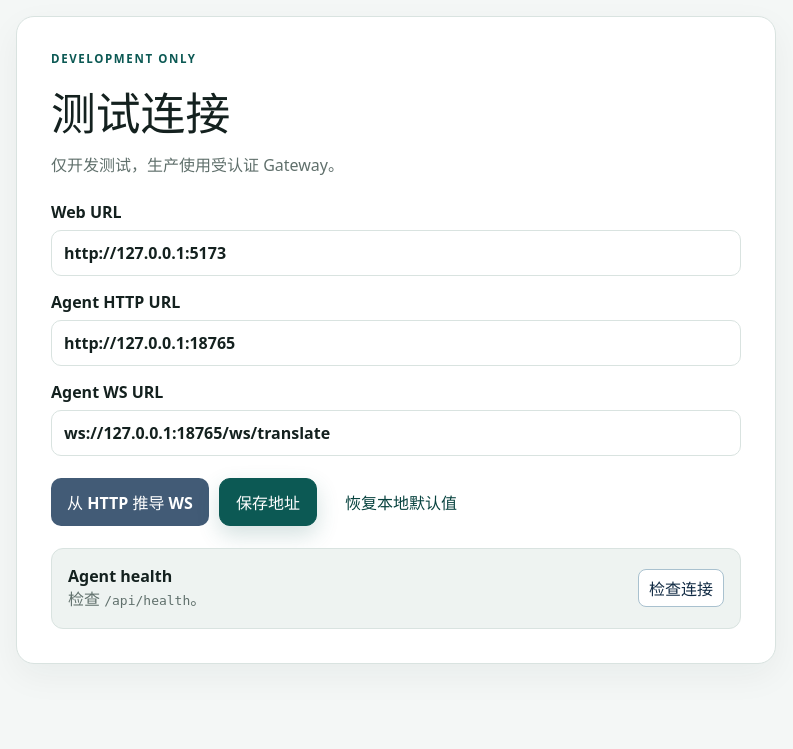
Test case: TestConnectionPage › shows a failed health check
Click the button "检查连接" at (681, 588), box [638,569,724,607]
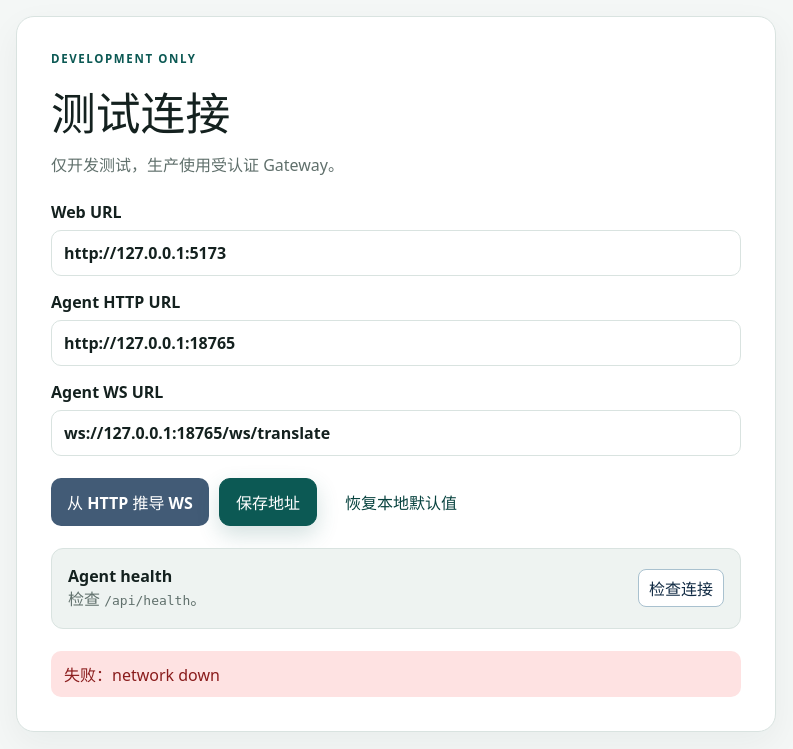
Check: the message reads "失败：network down", box [51,651,741,697]
